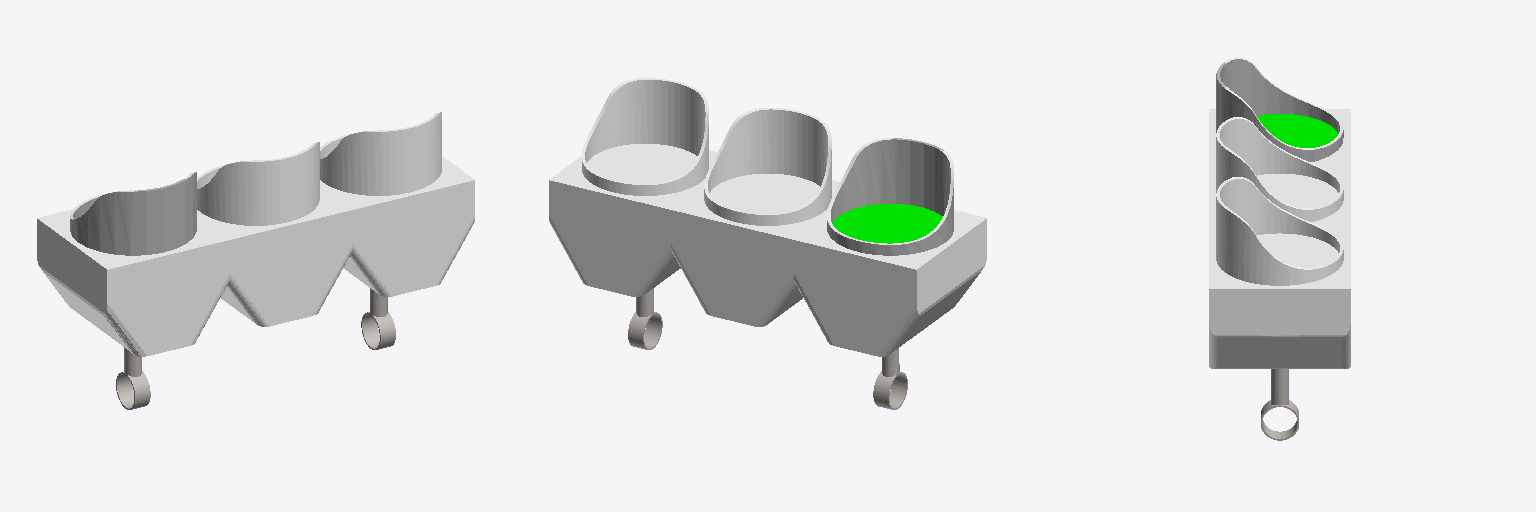
File: svetofor_gorizont.obj
The picture shows the model from 3 angles: view 1: azimuth 30°, elevation 25°; view 2: azimuth 150°, elevation 25°; view 3: azimuth 270°, elevation 25°; orthographic projection.
Visible parts, largest first — view 1: ________1, ________4, ________2, ________3, ________0; view 2: ________1, ________4, ________2, ________0, ________3; view 3: ________2, ________1, ________4, ________0.
Part boxes in pixels (x1,y1,x2,y2): ________1: (37, 172, 229, 356); ________4: (197, 142, 352, 326); ________2: (320, 112, 474, 296); ________3: (116, 347, 150, 409); ________0: (361, 288, 395, 349); ________1: (794, 138, 986, 356); ________4: (671, 108, 839, 326); ________2: (549, 78, 716, 296); ________0: (628, 288, 662, 349); ________3: (873, 348, 907, 409); ________2: (1209, 177, 1350, 368); ________1: (1209, 57, 1350, 168); ________4: (1209, 117, 1350, 228); ________0: (1261, 369, 1298, 440).
Bounding box in the file's own units: 0.024 × 0.0151 × 0.008.